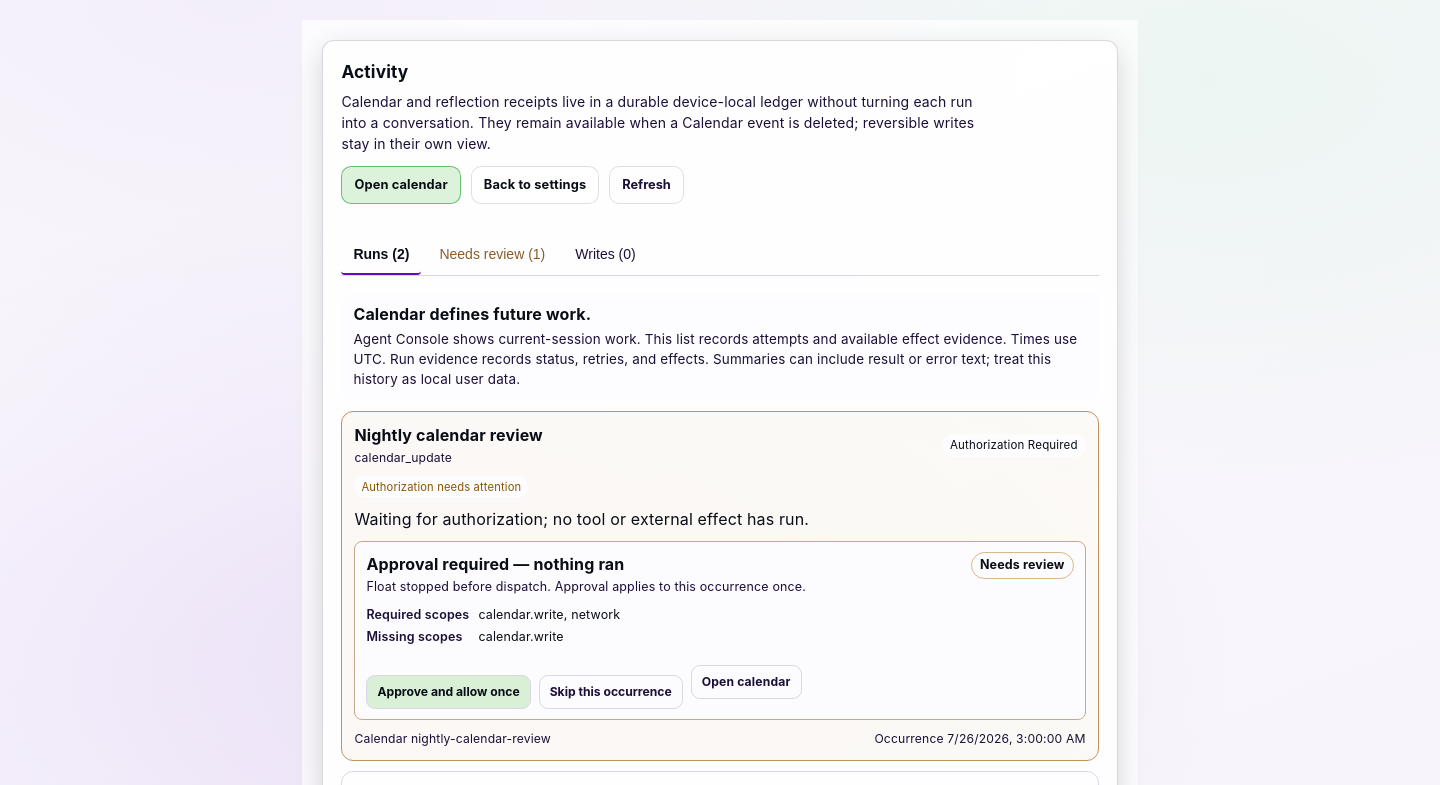
Test: WriteHistoryPage › reviews one scheduled authorization and refreshes after approving it once
This screenshot has width=1440, height=785.
Click the tab "Needs review (1)": (492, 255) left=427, top=236, right=557, bottom=275
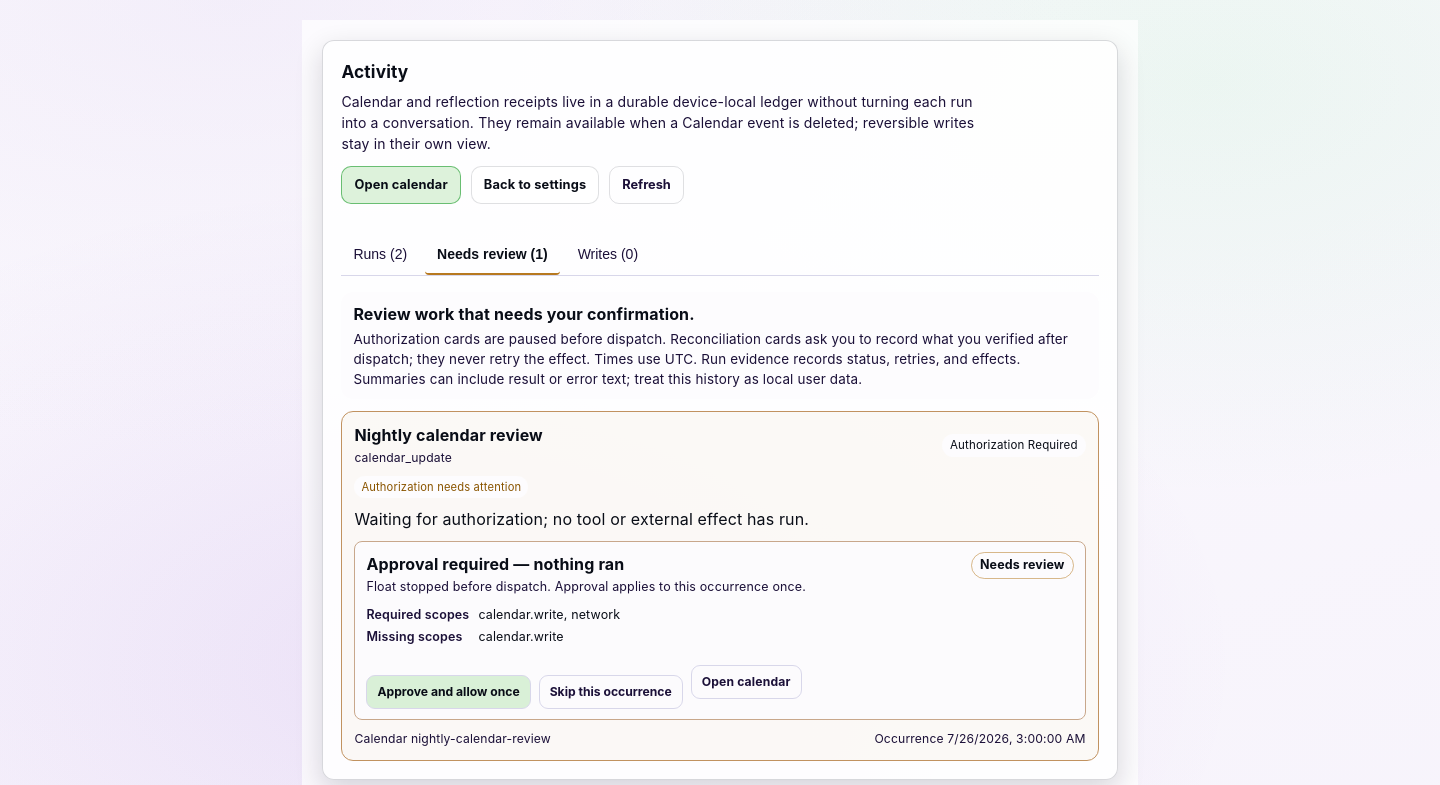
Expected: the text "Approval required — nothing ran" is shown, left=366, top=554, right=624, bottom=574
Expected: the text "Waiting for authorization; no tool or external effect has run" is shown, left=354, top=509, right=809, bottom=529
Click the button "Approve and allow once": (448, 692) left=366, top=676, right=531, bottom=710
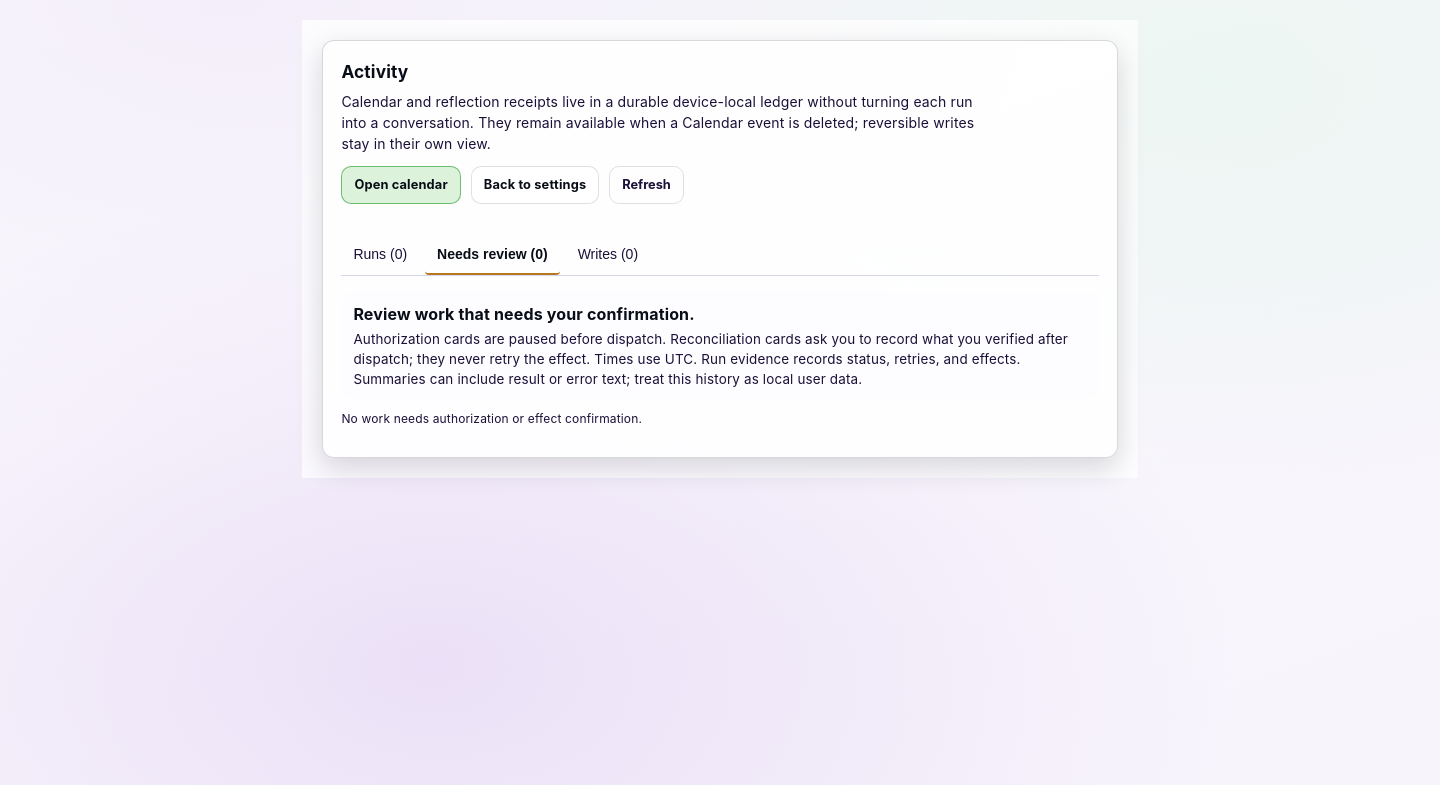
Expected: the text "No work needs authorization or effect confirmation." is shown, left=341, top=411, right=642, bottom=426
